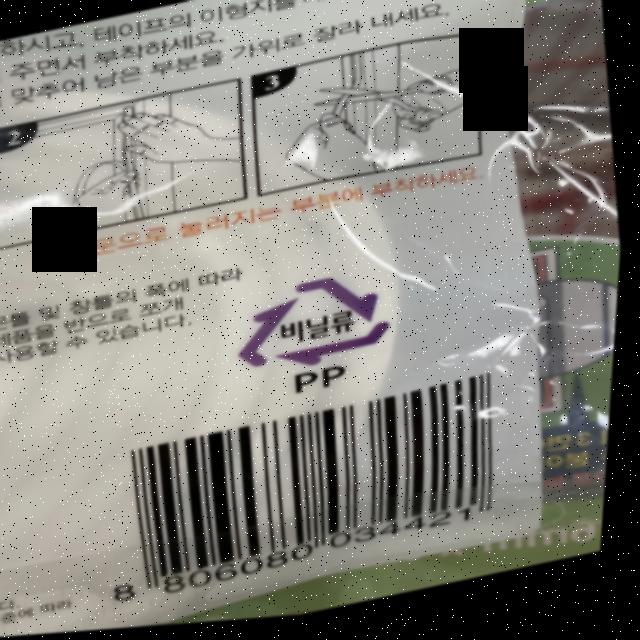Vinyl: (230, 264, 402, 388)
